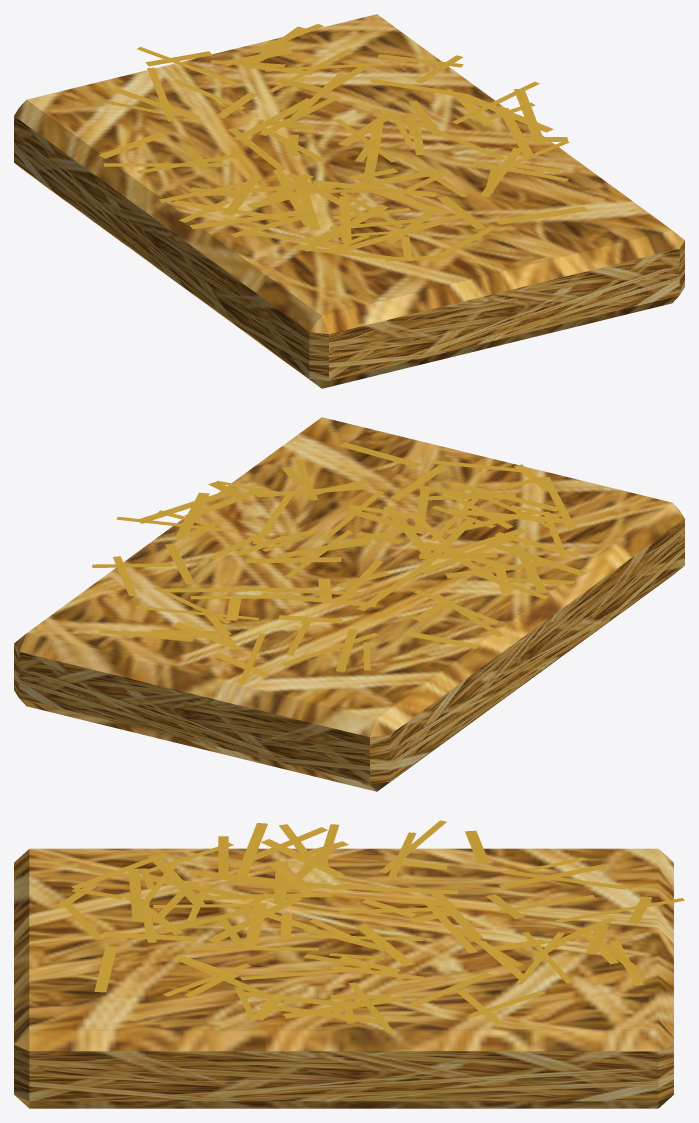
Rendered from BarnCozy_Fill2_2.fbx.
3 renders of one model, top to bottom at view 1: azimuth 30°, elevation 25°; view 2: azimuth 150°, elevation 25°; view 3: azimuth 270°, elevation 25°, orthographic. The views are drawn at different scales.
Parts seen in each view (by area): view 1: BarnCozy_Fill2_2; view 2: BarnCozy_Fill2_2; view 3: BarnCozy_Fill2_2.
Part boxes in pixels (x1,y1,x2,y2): BarnCozy_Fill2_2: [14, 14, 684, 388]; BarnCozy_Fill2_2: [14, 417, 684, 791]; BarnCozy_Fill2_2: [14, 820, 684, 1108].
Bounding box in the file's own units: 0.7668 × 0.159 × 1.02.
